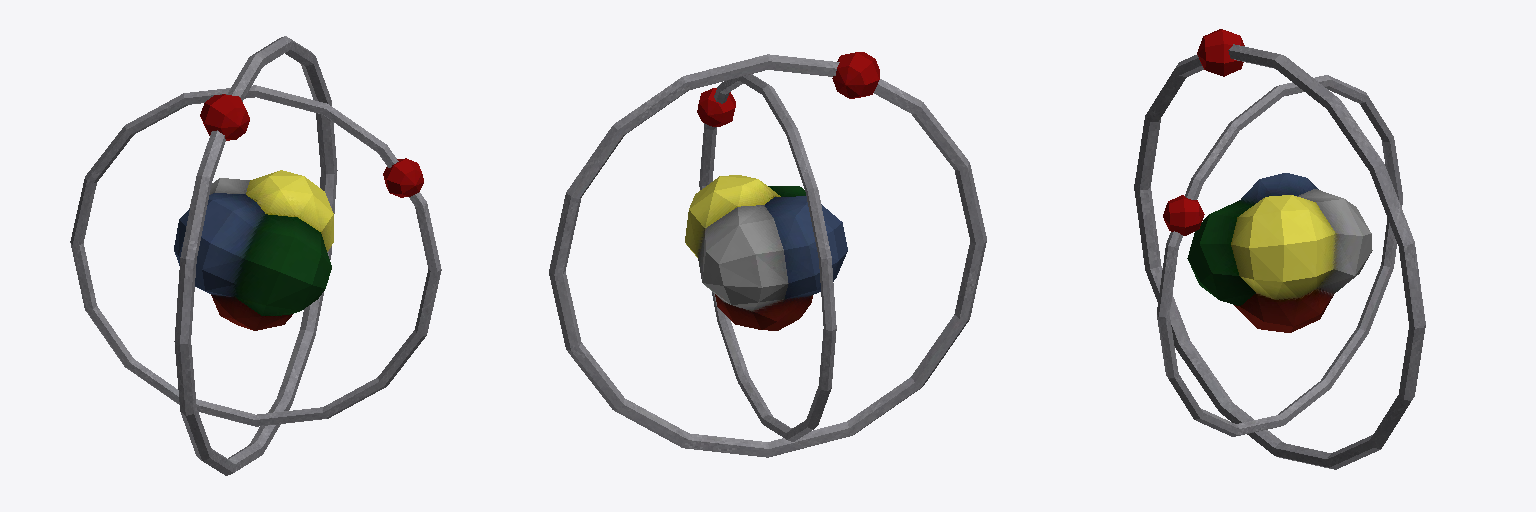
3 renders of one model, left to right at view 1: azimuth 30°, elevation 25°; view 2: azimuth 150°, elevation 25°; view 3: azimuth 270°, elevation 25°, orthographic.
Parts seen in each view (by area): view 1: unwrapped2, Object09, Object10, Object12, Object11; view 2: Object09, unwrapped2, Object10, Object12, Object11; view 3: unwrapped2, Object09, Object10, Object12, Object11.
Part boxes in pixels (bbox=[...]): unwrapped2: bbox=[174, 170, 333, 330]; Object09: bbox=[174, 36, 337, 475]; Object10: bbox=[70, 85, 441, 426]; Object12: bbox=[200, 94, 249, 140]; Object11: bbox=[383, 158, 423, 197]; Object09: bbox=[549, 54, 986, 457]; unwrapped2: bbox=[685, 175, 847, 330]; Object10: bbox=[699, 74, 836, 441]; Object12: bbox=[832, 52, 879, 98]; Object11: bbox=[697, 88, 735, 126]; unwrapped2: bbox=[1187, 173, 1372, 332]; Object09: bbox=[1134, 44, 1425, 469]; Object10: bbox=[1157, 75, 1402, 436]; Object12: bbox=[1197, 29, 1244, 76]; Object11: bbox=[1163, 195, 1204, 235].
Bounding box in the file's own units: 27.27 × 35.32 × 23.15.
1 materials, 1 textured.